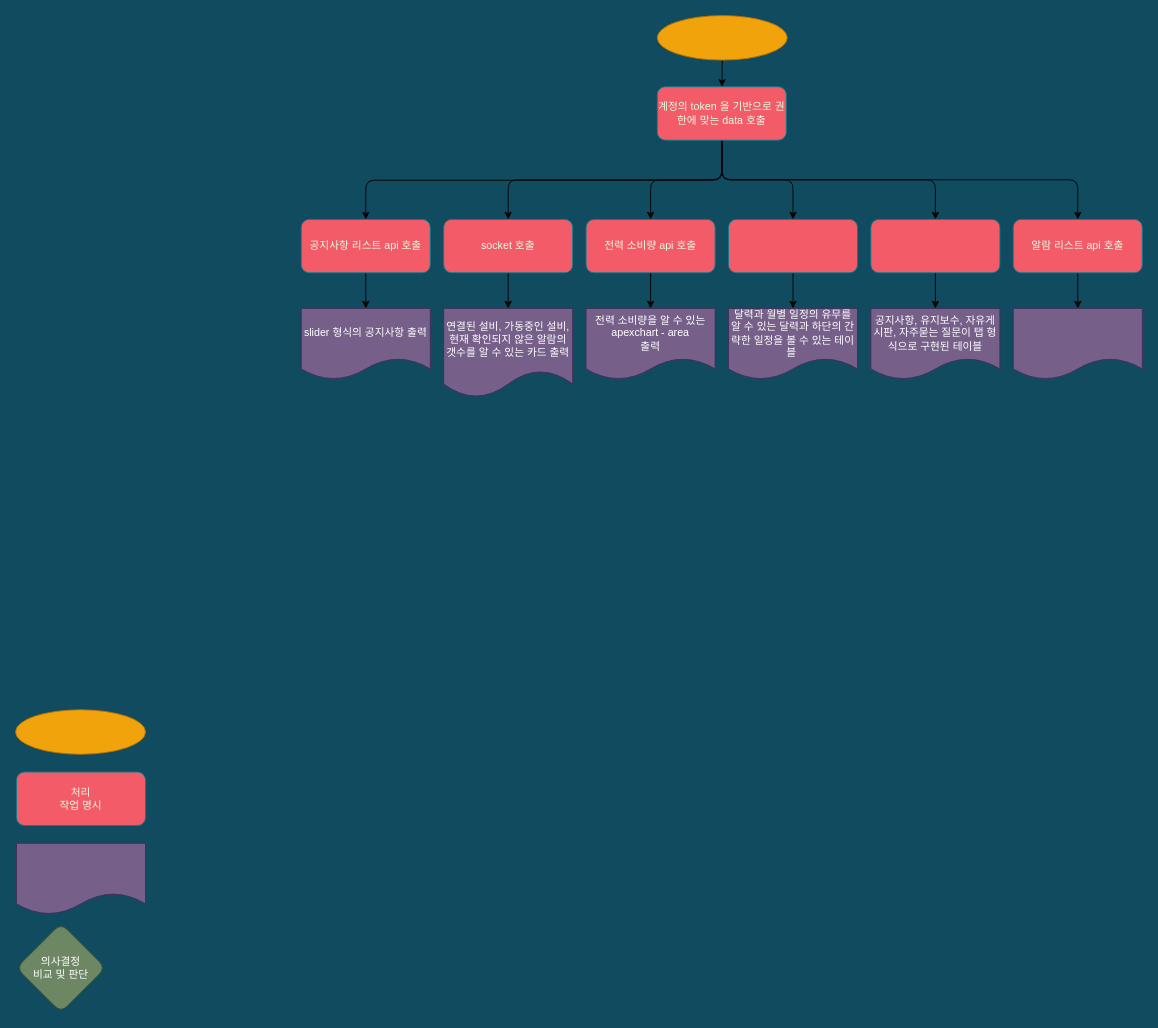
The diagram is 1158 pixels wide and 1028 high, and some of its shapes have lost their labels. The centre of each missing label's shape, as x and y in pixels:
"시작 - Dashboard Page" belongs at pixel 721 37.
"시작 끝" belongs at pixel 80 731.
"월별 일정 api 호출" belongs at pixel 793 245.
"종류별 게시판 api 호출" belongs at pixel 935 245.
"최근 알람을 알 수 있는 알람 테이블" belongs at pixel 1077 343.
"표시 화면으로 결과 출력" belongs at pixel 81 878.
